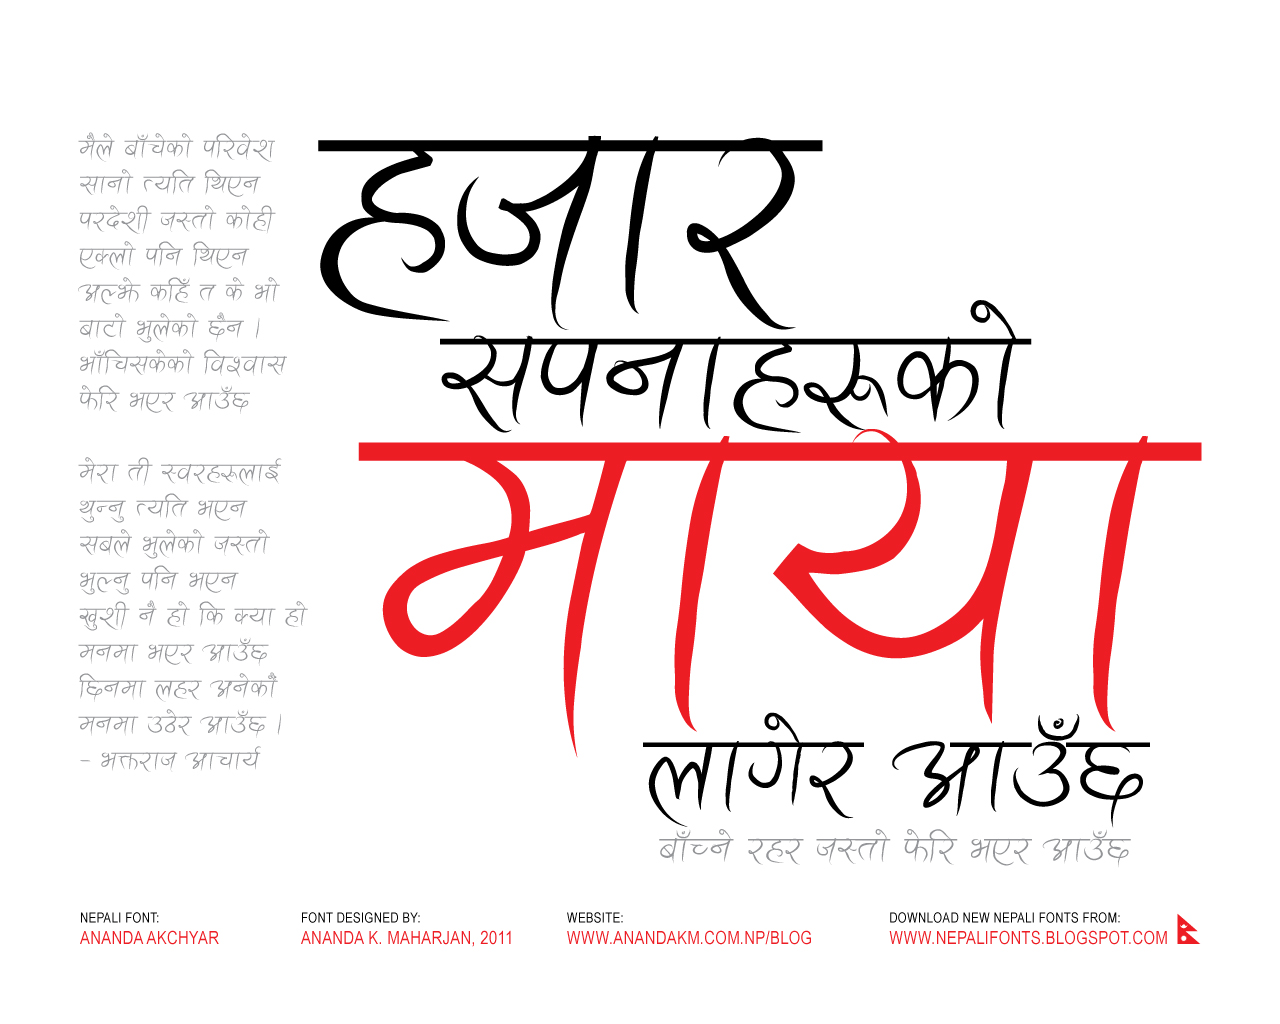text: (348, 436, 1208, 708), (307, 132, 828, 332), (430, 317, 1035, 432), (639, 711, 869, 825), (888, 719, 1153, 817), (161, 456, 282, 487), (1040, 830, 1131, 867), (79, 348, 194, 375), (815, 827, 891, 864), (655, 828, 734, 862), (200, 349, 287, 378), (202, 131, 278, 163), (967, 834, 1033, 870), (901, 827, 957, 868), (78, 205, 152, 234), (142, 526, 205, 559), (185, 745, 262, 771), (744, 833, 804, 866), (77, 671, 145, 700), (124, 132, 193, 160), (78, 276, 141, 306), (135, 312, 197, 343), (186, 385, 251, 414), (210, 671, 279, 698), (191, 239, 250, 270), (99, 749, 176, 772), (202, 167, 261, 196), (202, 709, 267, 736), (213, 528, 270, 557), (158, 204, 218, 231), (77, 600, 127, 632), (203, 638, 267, 664), (79, 240, 135, 270), (77, 169, 134, 197), (78, 528, 132, 557), (225, 204, 277, 233), (77, 639, 138, 664), (142, 169, 195, 196), (135, 493, 188, 519), (78, 311, 127, 340), (146, 707, 194, 736), (77, 496, 125, 523), (76, 714, 138, 735), (79, 571, 130, 596), (146, 642, 196, 667), (149, 276, 191, 305), (78, 382, 119, 412), (77, 456, 119, 484), (127, 391, 179, 414), (197, 498, 249, 521), (153, 678, 201, 702), (188, 571, 238, 594), (140, 563, 179, 591), (78, 131, 115, 160), (232, 604, 276, 627), (145, 241, 183, 267), (207, 312, 245, 339), (197, 600, 225, 627), (252, 276, 280, 302), (125, 457, 153, 483), (284, 600, 309, 628), (167, 600, 192, 627), (223, 276, 246, 302), (136, 600, 158, 626), (196, 282, 218, 301)
